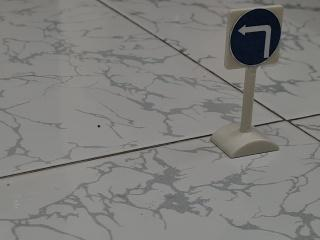left: (223, 5, 284, 68)
